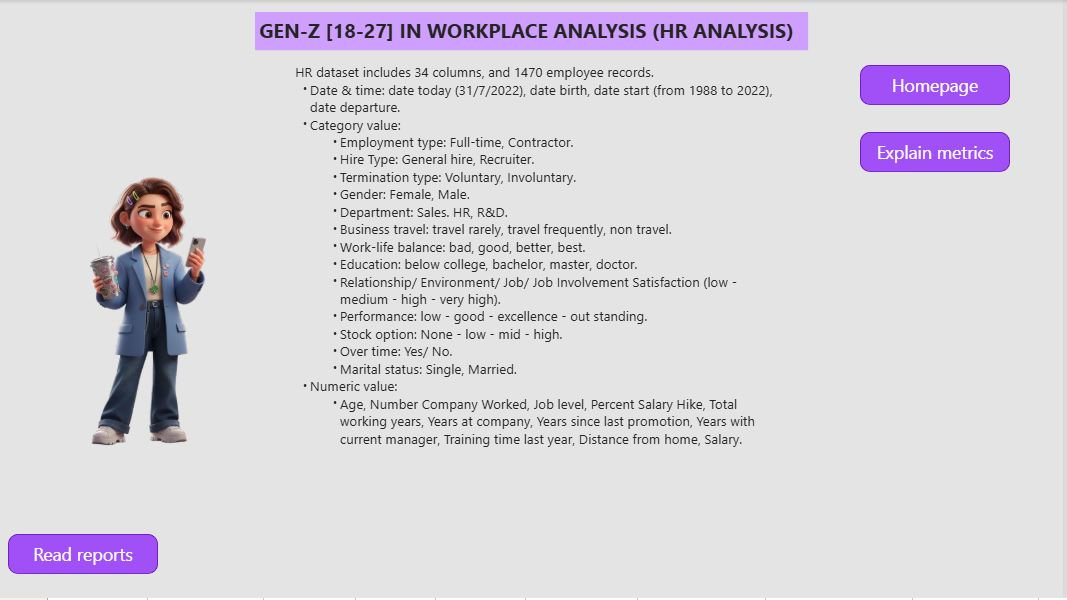

Layout of this report page (visuals, bound fields, positions):
{"tool":"powerbi","page":{"name":"about dataset","canvas":[1280,720],"ordinal":1},"visuals":[{"type":"textbox","box":[307.8,15,665.7,46.3],"z":0},{"type":"image","box":[10.8,191.4,340.7,360],"z":1000},{"type":"textbox","box":[351.6,71,585.2,490],"z":2000},{"type":"shape","box":[10.8,642.9,180.6,48.2],"z":3000},{"type":"shape","box":[1036.7,158.9,180.6,48.2],"z":4000},{"type":"shape","box":[1036.7,78.3,180.6,48.2],"z":5000}]}

Visuals, with their boxes in screenshot pixels (x1, y1, x2, y2), scaled from the page's 1280x720 canvas onto the 1067x600 screenshot:
textbox: [257,12,812,51]
image: [9,160,293,460]
textbox: [293,59,781,468]
shape: [9,536,160,576]
shape: [864,132,1015,173]
shape: [864,65,1015,105]
